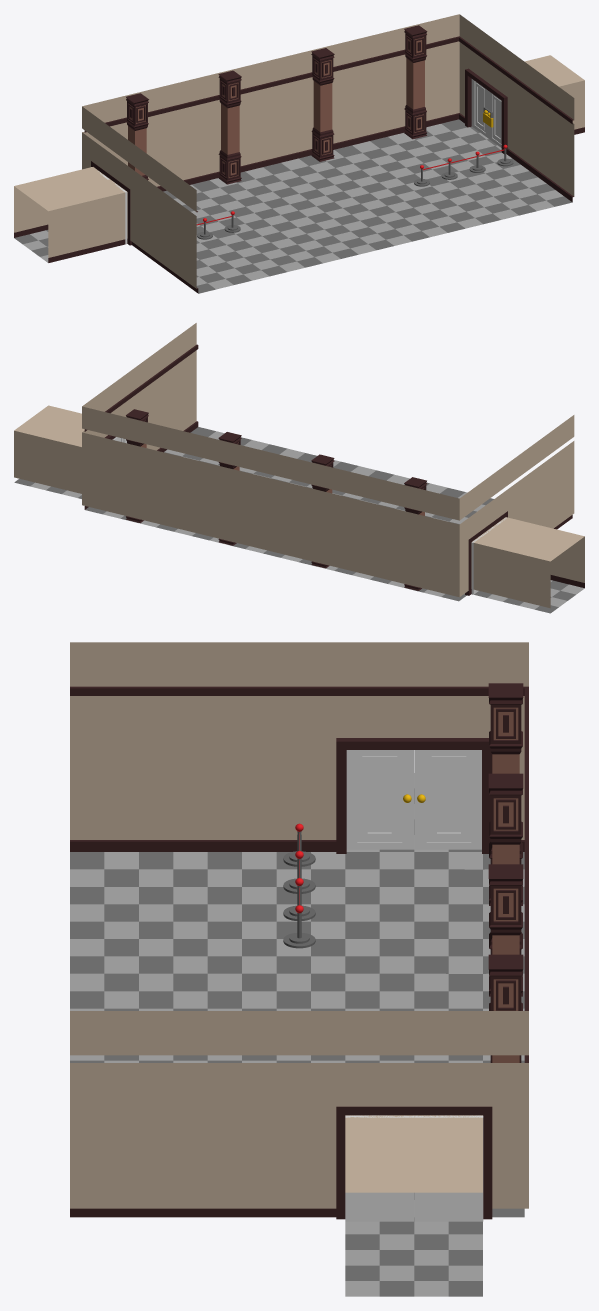
Rendered from NUEVOYMEJORADOMAPADELMUSEO.fbx.
3 views of the same model, one above another, from view 1: azimuth 30°, elevation 25°; view 2: azimuth 150°, elevation 25°; view 3: azimuth 270°, elevation 25° (orthographic). The views are drawn at different scales.
Visible parts, largest first — view 1: Plane.001, Cube, Cube.008, Cube.007, Circle, Cube.004; view 2: Plane.001, Cube, Cube.004; view 3: Plane.001, Cube.005, Cube, Cube.008, Cube.004, Cube.007, Circle.
Boxes of the visible parts, <box> form: Plane.001: <box>14,14,584,293</box>; Cube: <box>126,25,427,184</box>; Cube.008: <box>471,79,501,147</box>; Cube.007: <box>465,68,507,153</box>; Circle: <box>197,144,513,239</box>; Cube.004: <box>91,161,131,245</box>; Plane.001: <box>14,323,584,613</box>; Cube: <box>126,409,426,590</box>; Cube.004: <box>465,511,507,595</box>; Plane.001: <box>70,642,528,1296</box>; Cube.005: <box>346,750,481,849</box>; Cube: <box>488,683,523,1062</box>; Cube.008: <box>345,1115,483,1221</box>; Cube.004: <box>336,738,492,853</box>; Cube.007: <box>336,1106,492,1219</box>; Circle: <box>283,823,315,948</box>.
Bounding box in the file's own units: 5400 × 1004 × 2000.
